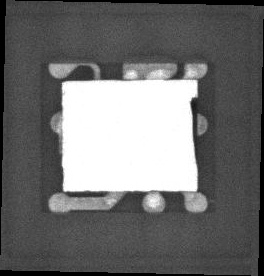DIE_BROKEN: (188, 93, 197, 171)
